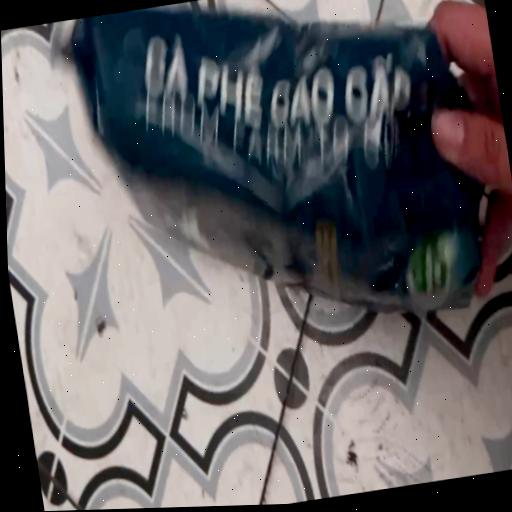cafe_hat: (56, 6, 483, 311)
